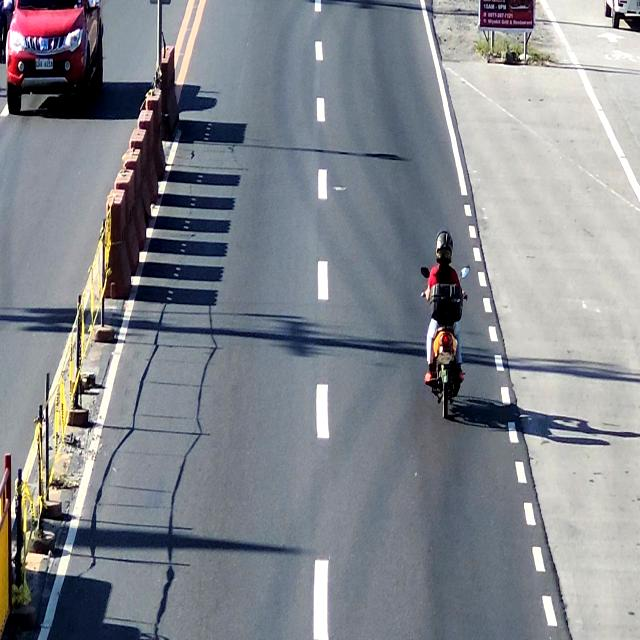Motorcycle: (427, 228, 468, 428)
